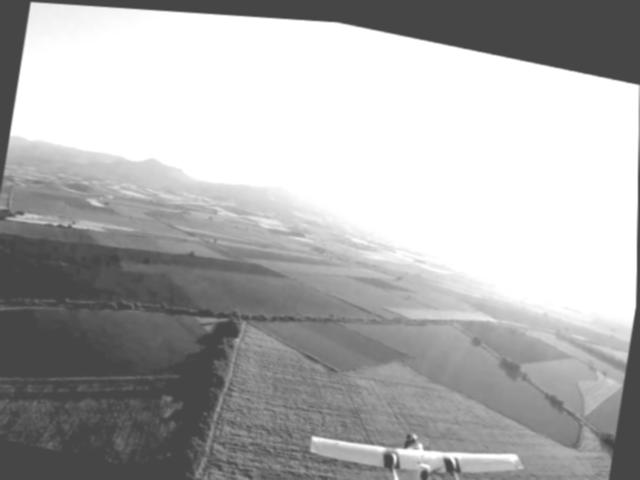hedef: (295, 394, 533, 480)
